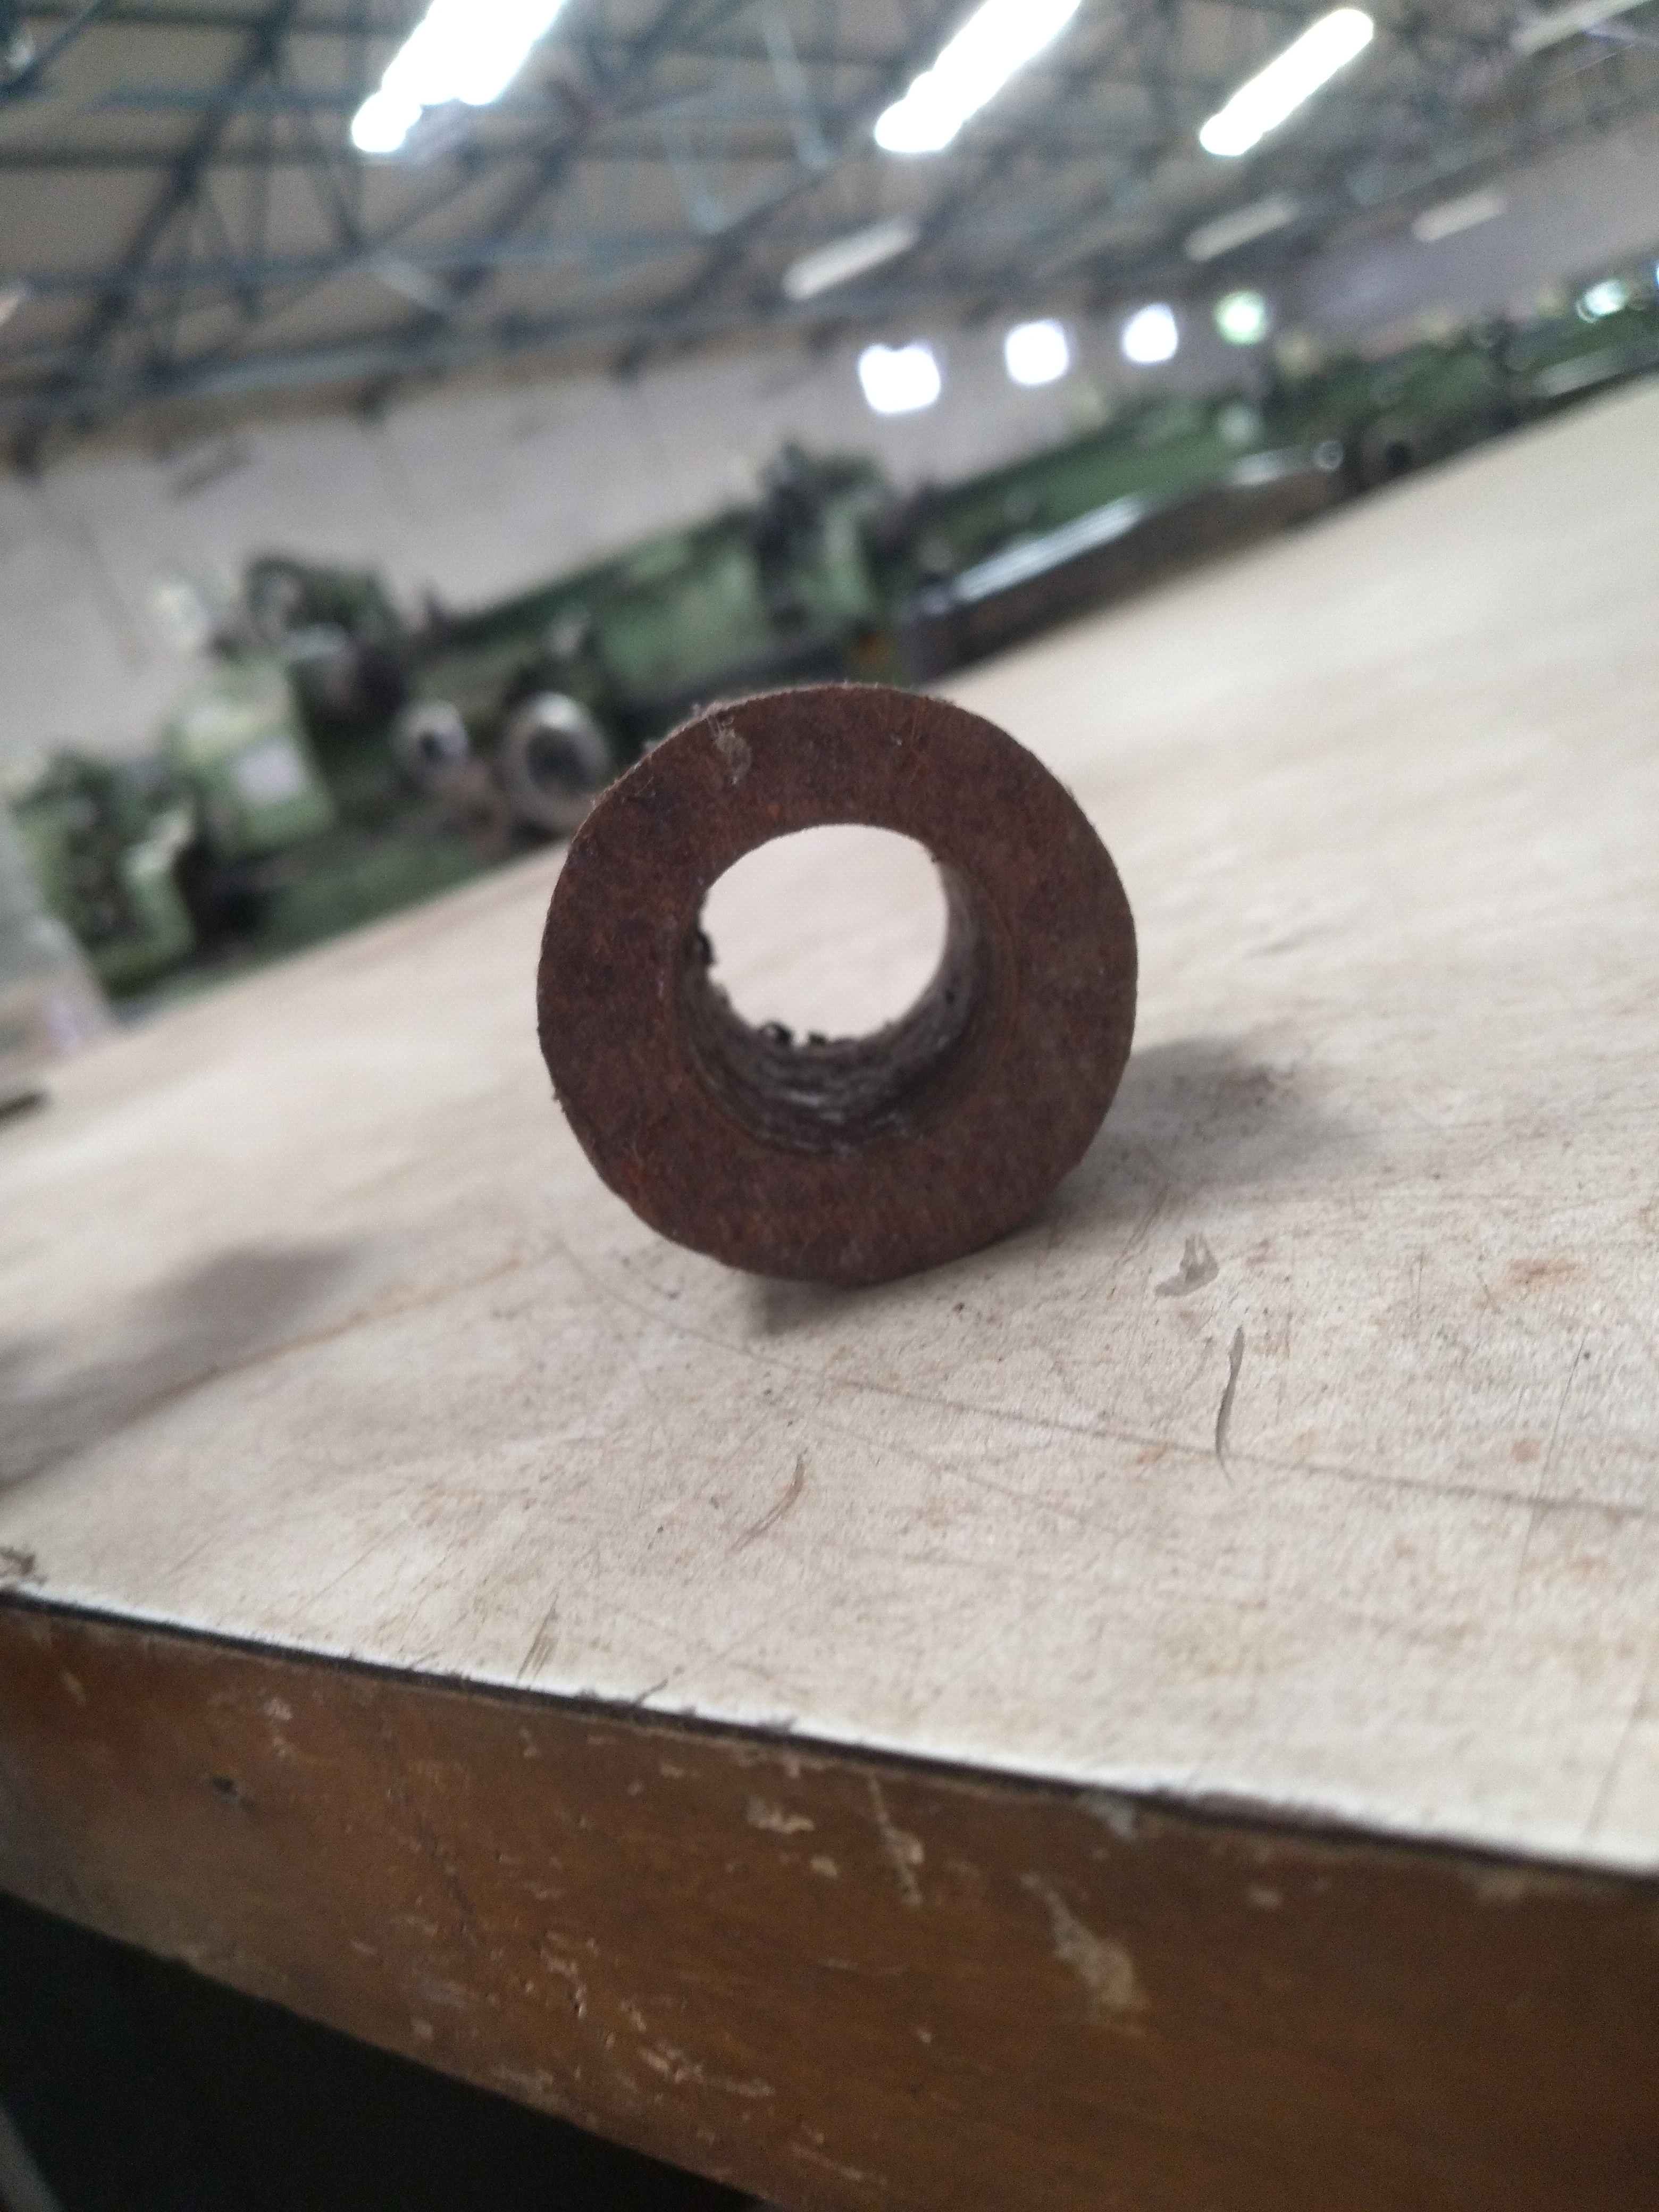No thread: (613, 780, 1115, 1183)
